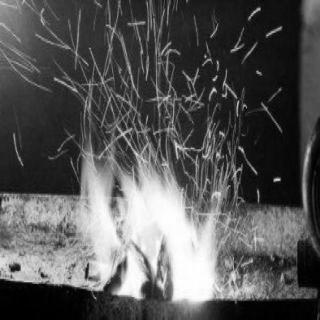Fire: (68, 133, 220, 303)
other: (290, 107, 313, 250)
